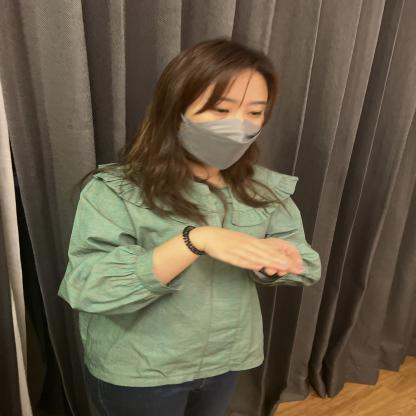Love: (145, 178, 403, 364)
